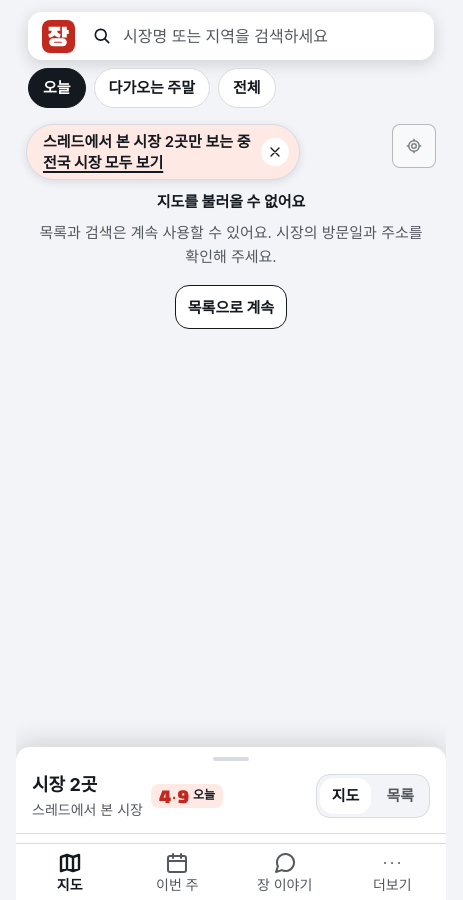
Scenario: MarketExplorer › market set links from Threads › offers a way back to the linked markets for a few seconds after leaving
Click the button "스레드에서 본 시장 2곳만 보는 중 전국 시장 모두 보기": (163, 152) [26,124,300,180]
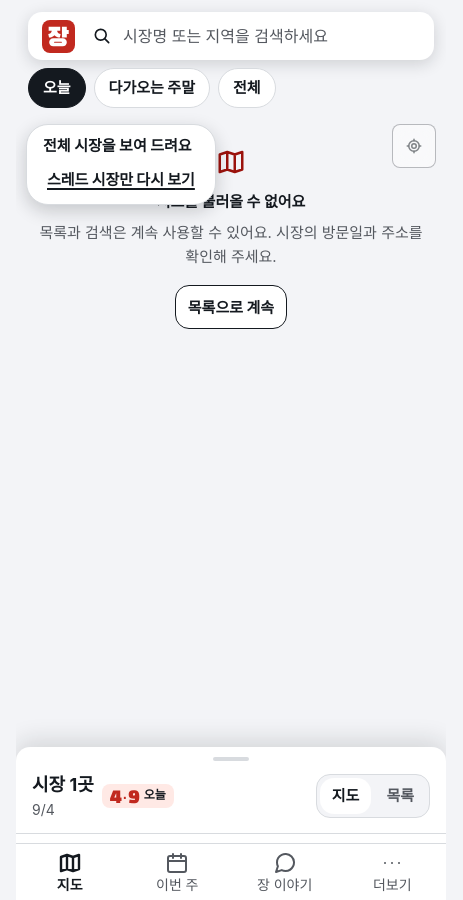
Check: the text "전체 시장을 보여 드려요" is shown, box [43,135,192,156]
Click the button "스레드 시장만 다시 보기": (121, 180) [35,158,207,202]
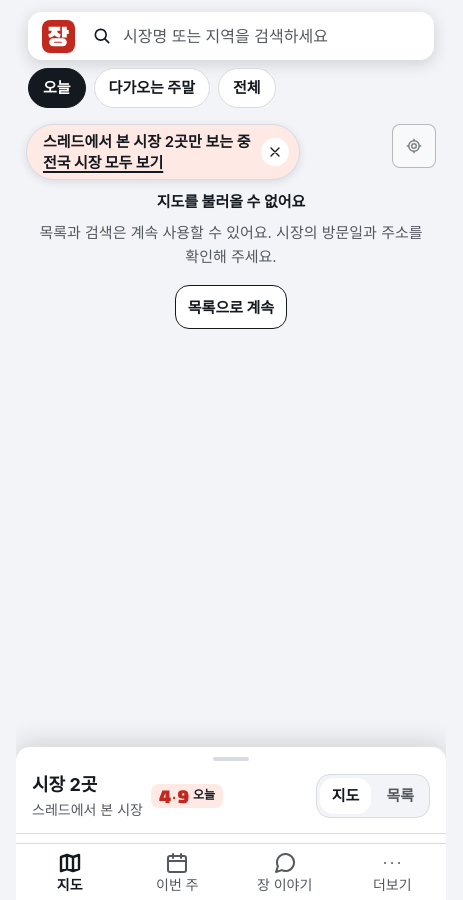
Check: the button "스레드에서 본 시장 2곳만 보는 중 전국 시장 모두 보기" is shown, box [26,124,300,180]
